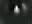person: (22, 4, 28, 16), (15, 7, 21, 17)
